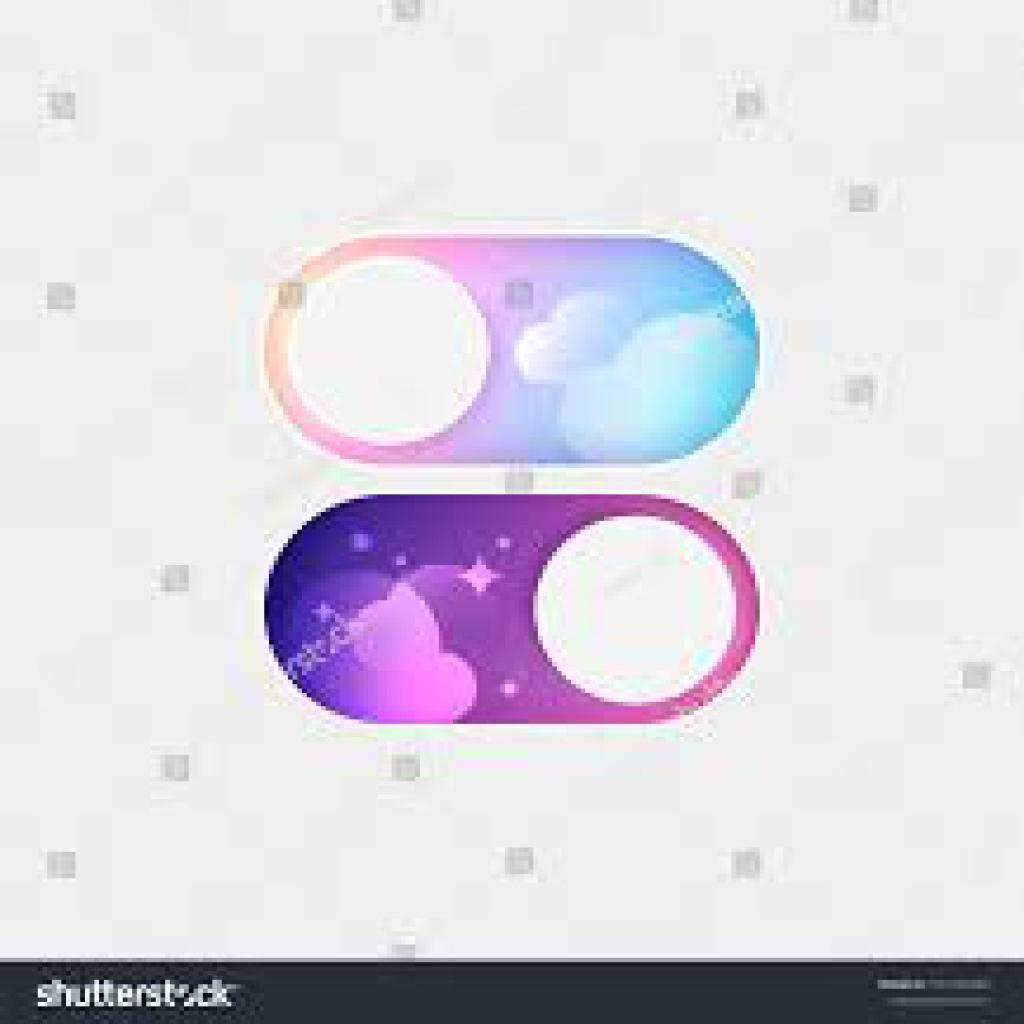switch: (264, 492, 763, 728), (266, 238, 759, 467)
